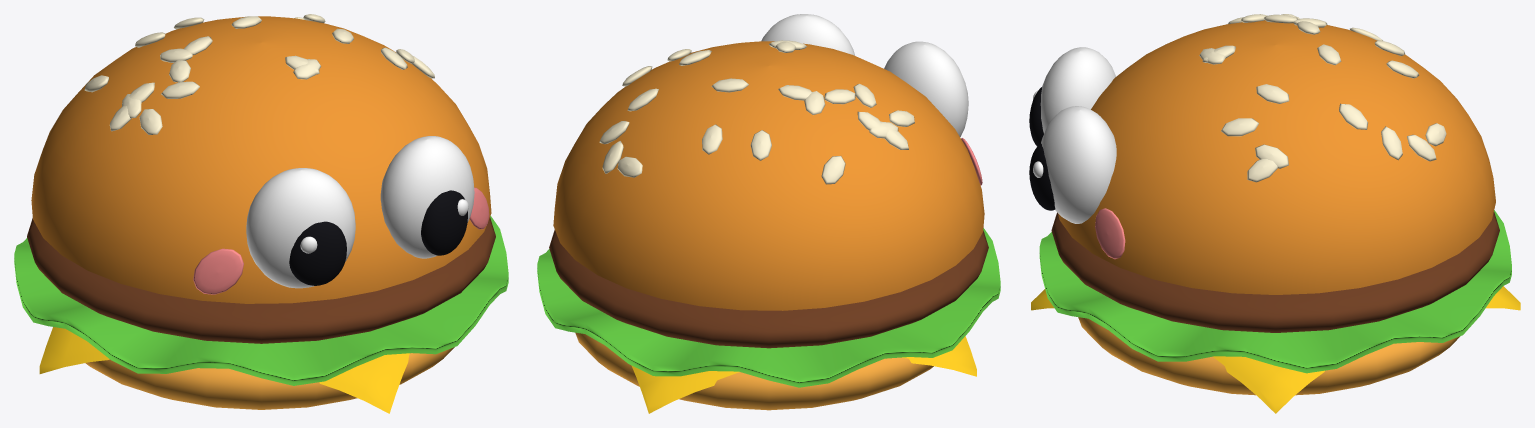
Rendered from burger_body.obj.
3 views of the same model, side by side, from view 1: azimuth 30°, elevation 25°; view 2: azimuth 150°, elevation 25°; view 3: azimuth 270°, elevation 25° (orthographic). The views are drawn at different scales.
Visible parts, largest first — view 1: BurgerBody; view 2: BurgerBody; view 3: BurgerBody.
Boxes of the visible parts, x1,y1,x2,y2 form: BurgerBody: (14, 14, 508, 413); BurgerBody: (537, 14, 1000, 413); BurgerBody: (1029, 14, 1520, 413).
Bounding box in the file's own units: 1.24 × 0.8538 × 1.25.
